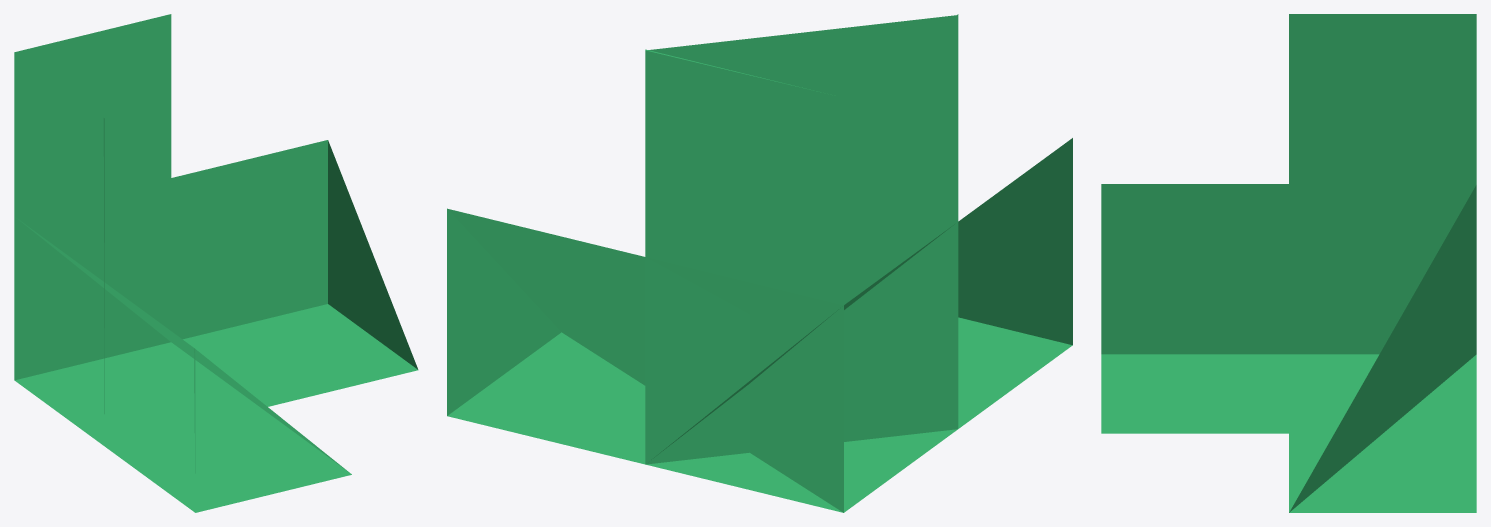
The model's file is r5c5_border_green.gltf.
3 renders of one model, left to right at view 1: azimuth 30°, elevation 25°; view 2: azimuth 150°, elevation 25°; view 3: azimuth 270°, elevation 25°, orthographic. The views are drawn at different scales.
Visible parts, largest first — view 1: r5c5_border_green; view 2: r5c5_border_green; view 3: r5c5_border_green.
Boxes of the visible parts, x1,y1,x2,y2 form: r5c5_border_green: (14, 14, 418, 512); r5c5_border_green: (447, 14, 1072, 512); r5c5_border_green: (1101, 14, 1476, 512).
Bounding box in the file's own units: 2.1 × 2.1 × 2.1.
1 material, 1 textured.
